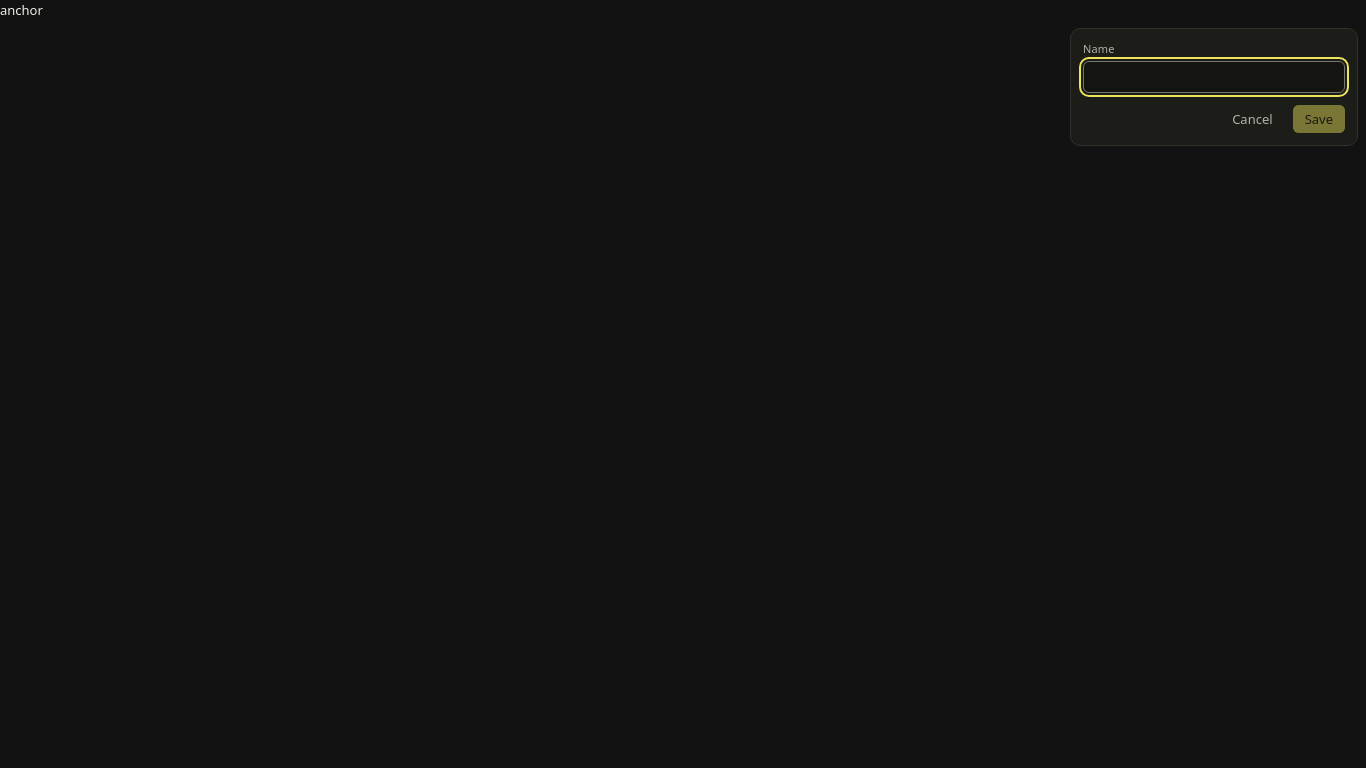
Test: saving the playlist under a name › says when the name is taken, and saving then replaces
The width and height of the screenshot is (1366, 768).
Later steps or results of the test are not shown.
Type "evening" into the field labelled "Name".
click(1214, 77); type("evening")  # box [1083,61,1345,93]
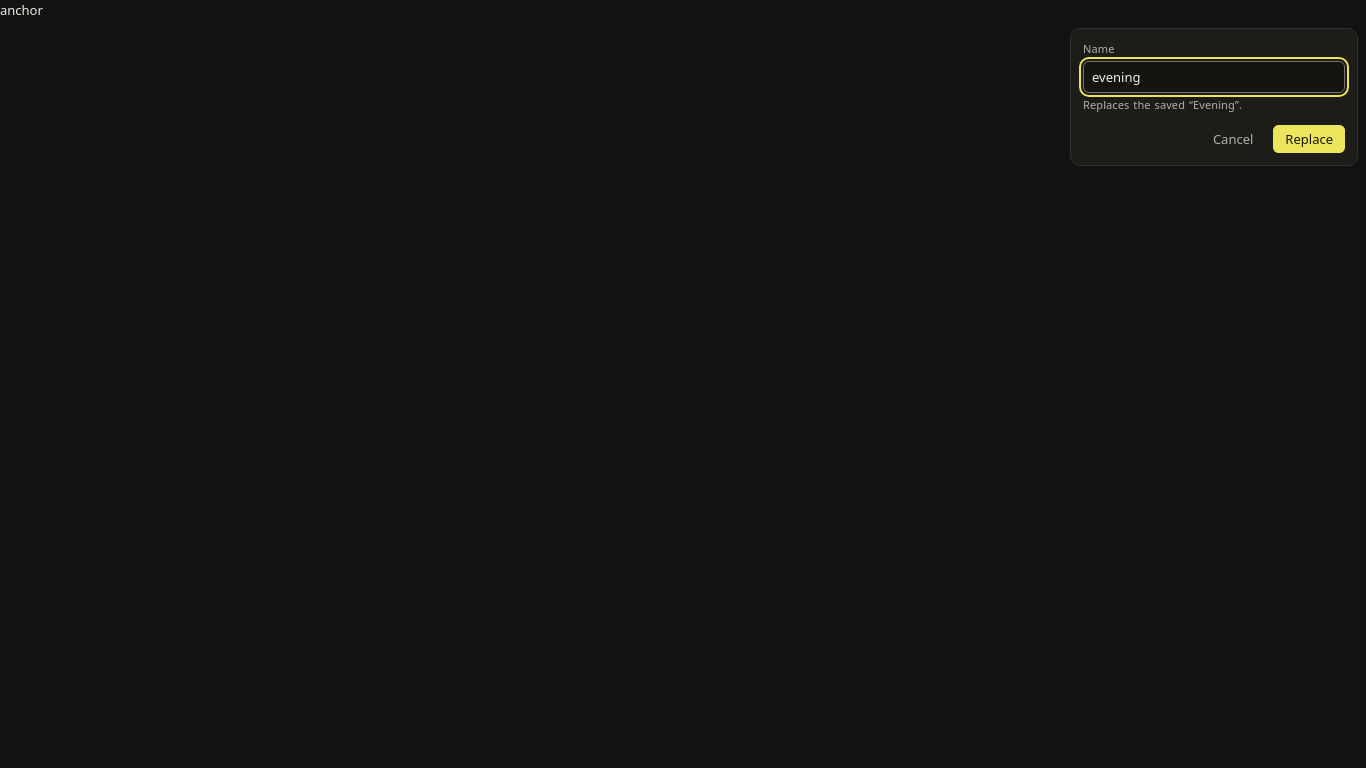
Now the text "Replaces the saved “Evening”." is shown, box [1083,97,1242,112]
